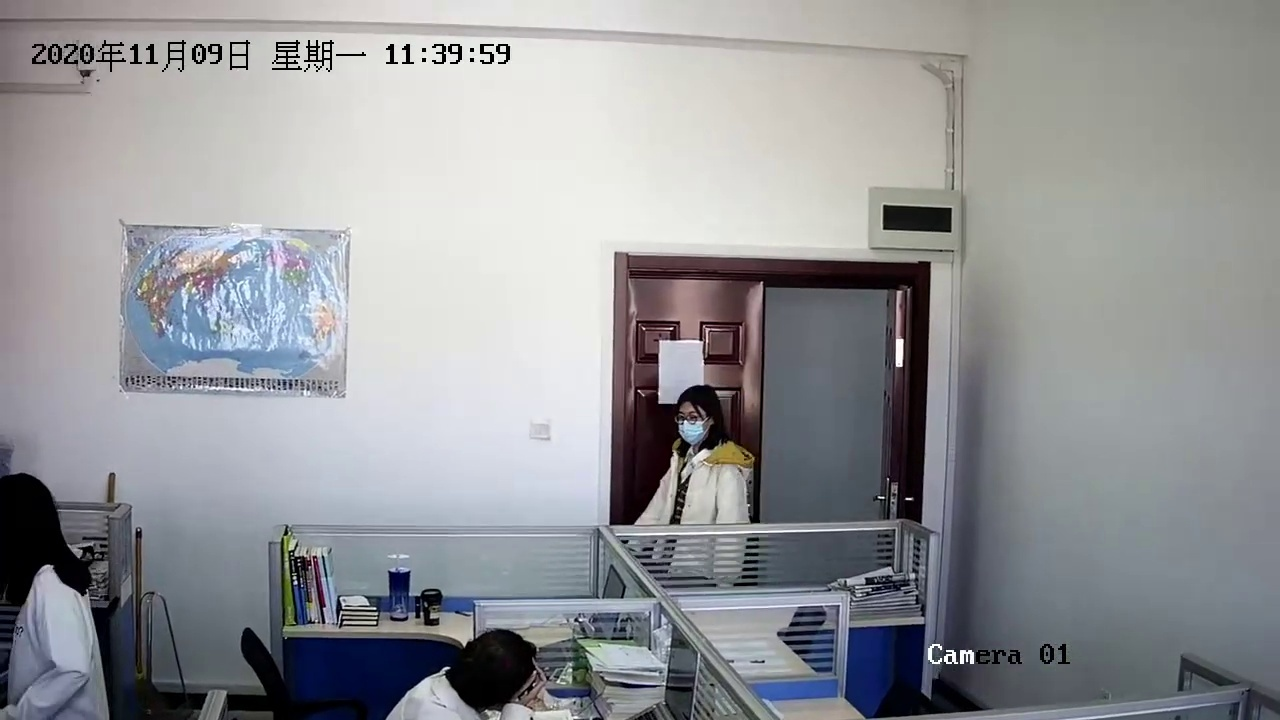mask: (675, 393, 714, 447)
